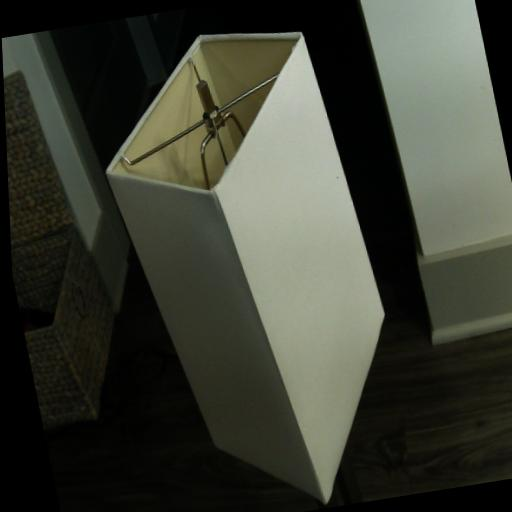lamp: (79, 12, 421, 512)
